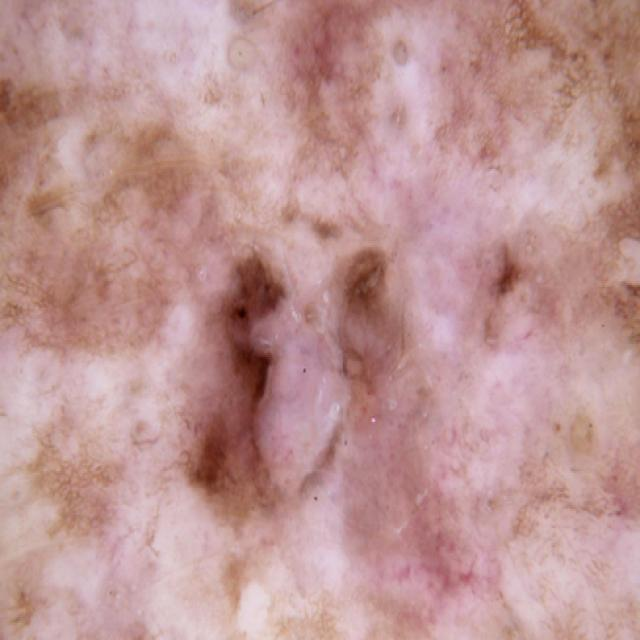Carcinoma: (160, 197, 575, 640)
